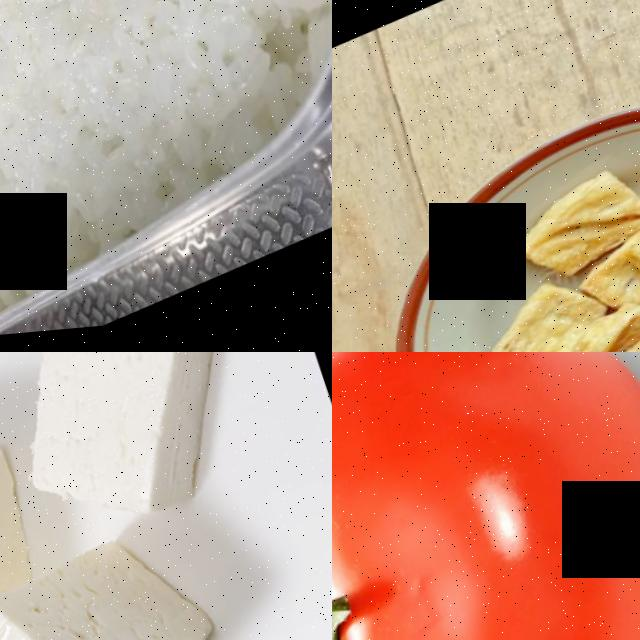tofu: (0, 352, 289, 574), (0, 518, 255, 640), (505, 162, 640, 293), (466, 276, 618, 352)
tomato: (332, 352, 640, 640)
white rice: (0, 0, 332, 178), (0, 0, 127, 346)
